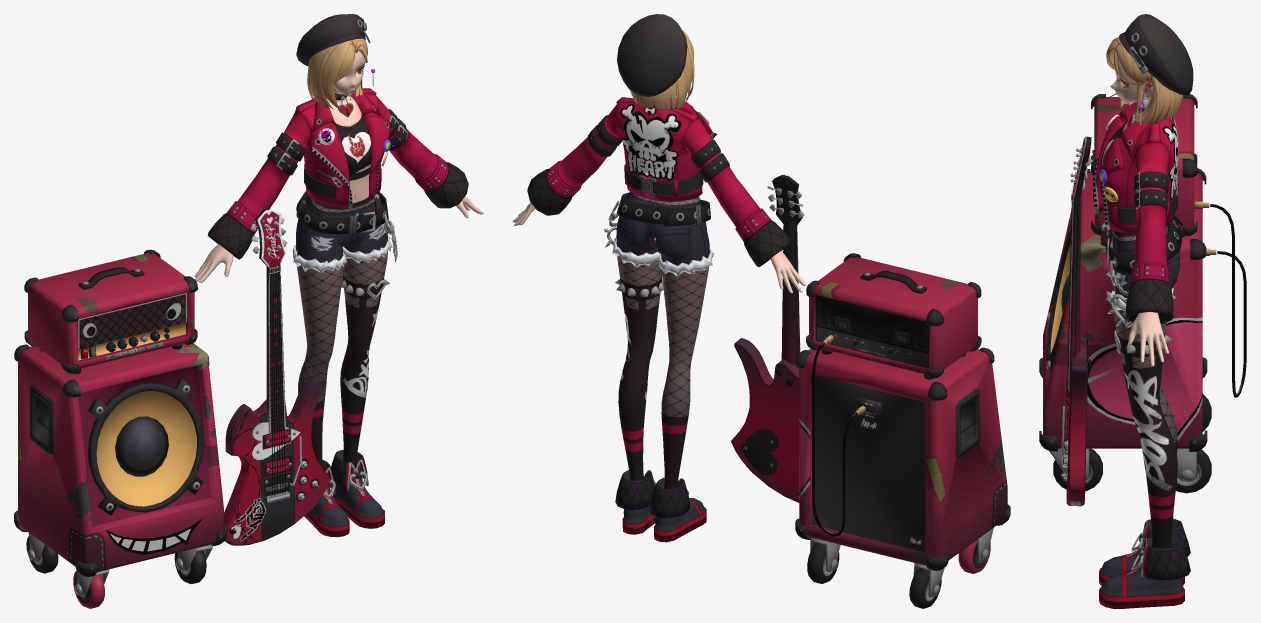
The model's file is Hart.FBX.
3 renders of one model, left to right at view 1: azimuth 30°, elevation 25°; view 2: azimuth 150°, elevation 25°; view 3: azimuth 270°, elevation 25°, orthographic. The views are drawn at different scales.
Visible parts, largest first — view 1: LobbyAmp, Hart_01_Body, Hart_Lobby_Guitar, Hart_01_Hair, Hart_01_Face; view 2: LobbyAmp, Hart_01_Body, Hart_Lobby_Guitar, Hart_01_Hair; view 3: Hart_01_Body, LobbyAmp, Hart_Lobby_Guitar, Hart_01_Hair, Hart_01_Face.
Boxes of the visible parts, <box> form: LobbyAmp: <box>14,249,226,608</box>; Hart_01_Body: <box>194,69,483,537</box>; Hart_Lobby_Guitar: <box>224,208,331,545</box>; Hart_01_Hair: <box>296,14,370,109</box>; Hart_01_Face: <box>334,51,365,100</box>; LobbyAmp: <box>795,253,1010,608</box>; Hart_01_Body: <box>512,97,806,542</box>; Hart_Lobby_Guitar: <box>731,174,804,502</box>; Hart_01_Hair: <box>617,14,694,109</box>; Hart_01_Body: <box>1093,93,1190,608</box>; LobbyAmp: <box>1039,94,1246,493</box>; Hart_Lobby_Guitar: <box>1060,136,1092,506</box>; Hart_01_Hair: <box>1106,14,1193,123</box>; Hart_01_Face: <box>1108,59,1152,109</box>.
Bounding box in the file's own units: 1.64 × 1.76 × 0.5764.
